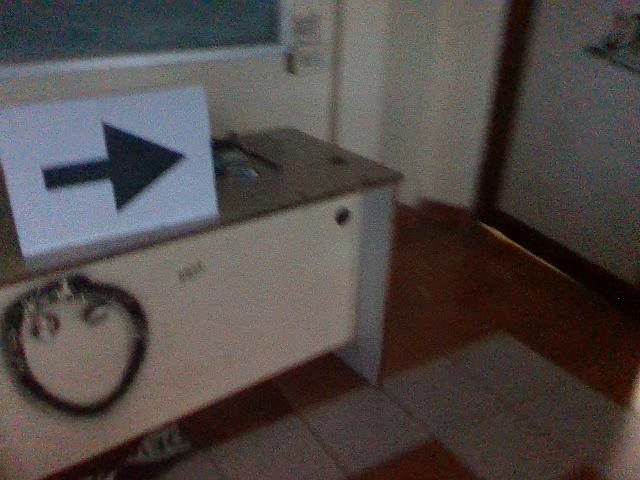Right: (29, 114, 190, 217)
